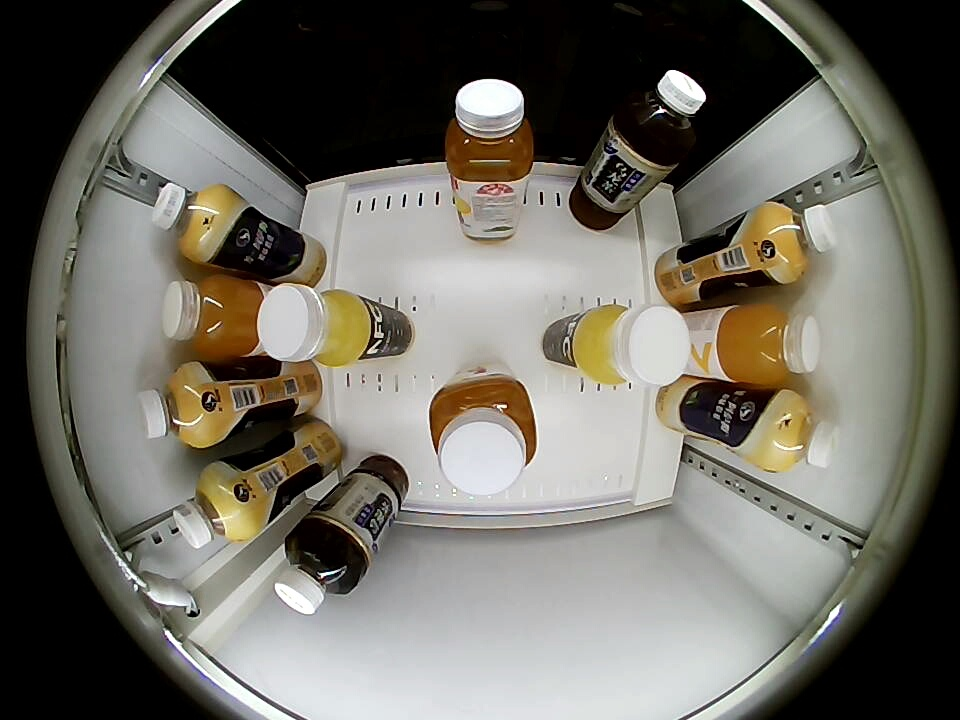asamu: (137, 364, 217, 448), (172, 468, 252, 549), (759, 201, 838, 281), (761, 392, 839, 473), (151, 182, 230, 260)
chapai: (427, 370, 538, 494), (445, 79, 535, 184)
nfc: (578, 303, 691, 388), (257, 283, 370, 367)
weic: (161, 275, 266, 358), (717, 305, 821, 385)
wulongcha: (613, 69, 707, 163), (274, 529, 359, 615)
